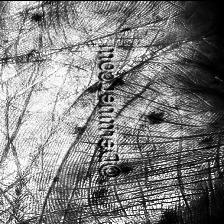Unclassified: (123, 18, 224, 220), (46, 32, 104, 212), (35, 0, 168, 18)
